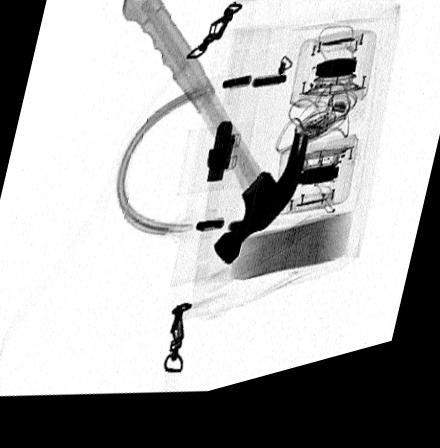Hammer: (121, 0, 310, 277)
